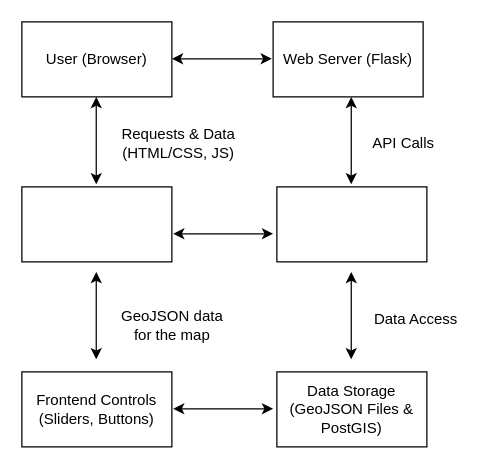
This 494x469 diagram has some shape labels left out. The centre of each missing label's shape, as x and y in pixels:
Interactive Web Map (Leaflet): the point at 96,224
Spatial Analysis Engine (GeoPandas/SciPy): the point at 351,224
